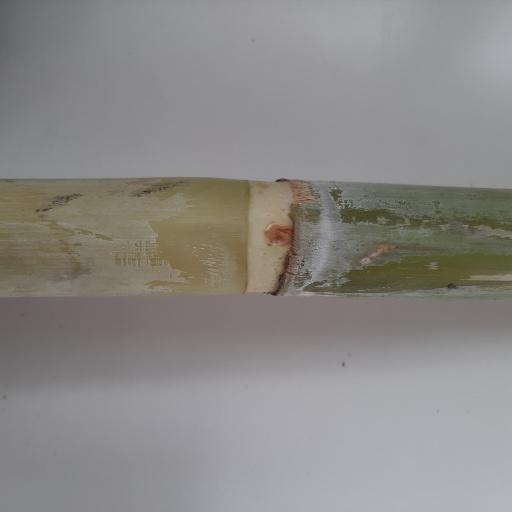Damage_Bud: (262, 226, 296, 247)
